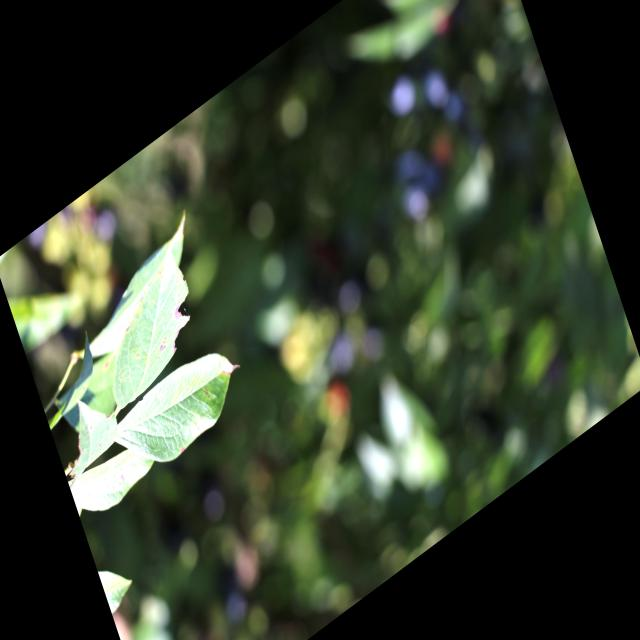blueberry: (416, 58, 456, 119), (382, 70, 420, 126)
